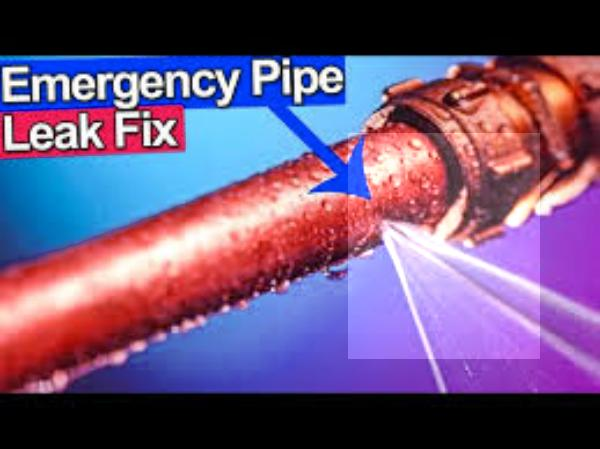water: (348, 133, 540, 359)
